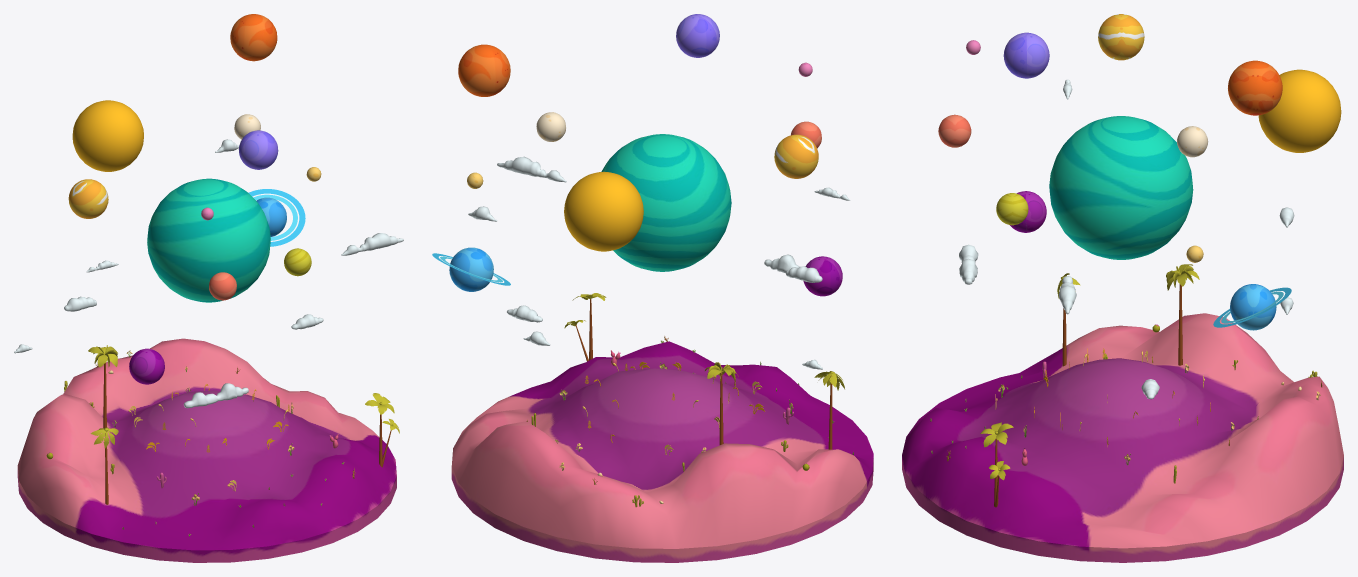
File: 3. Grandes Sueños.fbx
The picture shows the model from 3 angles, left to right: view 1: azimuth 30°, elevation 25°; view 2: azimuth 150°, elevation 25°; view 3: azimuth 270°, elevation 25°; orthographic projection. The views are drawn at different scales.
Visible parts, largest first — view 1: MDL_Piso_base_circular, MDL_Planeta_12, MDL_Planeta_11, MDL_Planeta_6, MDL_Planeta_2, MDL_Planeta_5, MDL_Planeta_3, MDL_Planeta_1, MDL_Nube_5, MDL_Palmera_A, MDL_Palmera_Doble, MDL_Planeta_7 (+3 smaller); view 2: MDL_Piso_base_circular, MDL_Planeta_12, MDL_Planeta_11, MDL_Planeta_2, MDL_Planeta_6, MDL_Planeta_5, MDL_Planeta_3, MDL_Planeta_1, MDL_Nube_7, MDL_Planeta_9, MDL_Palmera_A, MDL_Palmera_B; view 3: MDL_Piso_base_circular, MDL_Planeta_12, MDL_Planeta_11, MDL_Planeta_2, MDL_Planeta_6, MDL_Planeta_5, MDL_Planeta_3, MDL_Palmera_Doble, MDL_Planeta_7, MDL_Planeta_1, MDL_Planeta_4, MDL_Palmera_A (+2 smaller).
Part boxes in pixels (box(x1,y1,x2,y2)): MDL_Piso_base_circular: box(17, 338, 396, 562); MDL_Planeta_12: box(147, 178, 270, 302); MDL_Planeta_11: box(72, 100, 143, 171); MDL_Planeta_6: box(248, 189, 305, 246); MDL_Planeta_2: box(230, 14, 277, 61); MDL_Planeta_5: box(68, 179, 108, 218); MDL_Planeta_3: box(238, 130, 278, 169); MDL_Planeta_1: box(129, 348, 164, 384); MDL_Nube_5: box(183, 383, 248, 408); MDL_Palmera_A: box(88, 345, 117, 428); MDL_Palmera_Doble: box(365, 393, 399, 467); MDL_Planeta_7: box(209, 272, 236, 300); MDL_Piso_base_circular: box(451, 341, 873, 562); MDL_Planeta_12: box(601, 134, 731, 271); MDL_Planeta_11: box(564, 171, 643, 251); MDL_Planeta_2: box(458, 44, 510, 96); MDL_Planeta_6: box(432, 247, 510, 291); MDL_Planeta_5: box(774, 134, 818, 178); MDL_Planeta_3: box(676, 14, 719, 57); MDL_Planeta_1: box(803, 256, 842, 296); MDL_Nube_7: box(497, 156, 566, 182); MDL_Planeta_9: box(536, 112, 565, 141); MDL_Palmera_A: box(705, 362, 738, 444); MDL_Palmera_B: box(814, 371, 844, 449); MDL_Piso_base_circular: box(902, 313, 1343, 562); MDL_Planeta_12: box(1049, 116, 1193, 259); MDL_Planeta_11: box(1258, 69, 1341, 152); MDL_Planeta_2: box(1228, 60, 1282, 115); MDL_Planeta_6: box(1213, 284, 1291, 330); MDL_Planeta_5: box(1098, 14, 1144, 60); MDL_Planeta_3: box(1003, 32, 1049, 78); MDL_Palmera_Doble: box(980, 422, 1013, 507); MDL_Planeta_7: box(938, 114, 971, 147); MDL_Planeta_1: box(1010, 191, 1046, 232); MDL_Planeta_4: box(996, 193, 1028, 225); MDL_Palmera_A: box(1166, 264, 1199, 365).
Size of the model in its own units: 18.63 by 20.87 by 17.97.
